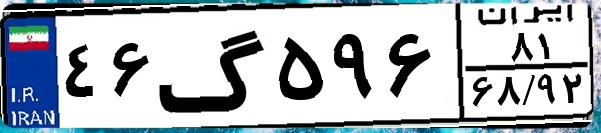1: (537, 27, 568, 80)
2: (560, 70, 590, 125)
4: (57, 26, 110, 100)
5: (270, 28, 330, 110)
6: (385, 28, 445, 110), (110, 28, 156, 98), (470, 70, 495, 125)
8: (508, 27, 537, 80), (495, 70, 520, 125)
9: (330, 28, 385, 110), (535, 70, 560, 125)
گ: (156, 12, 270, 120)
